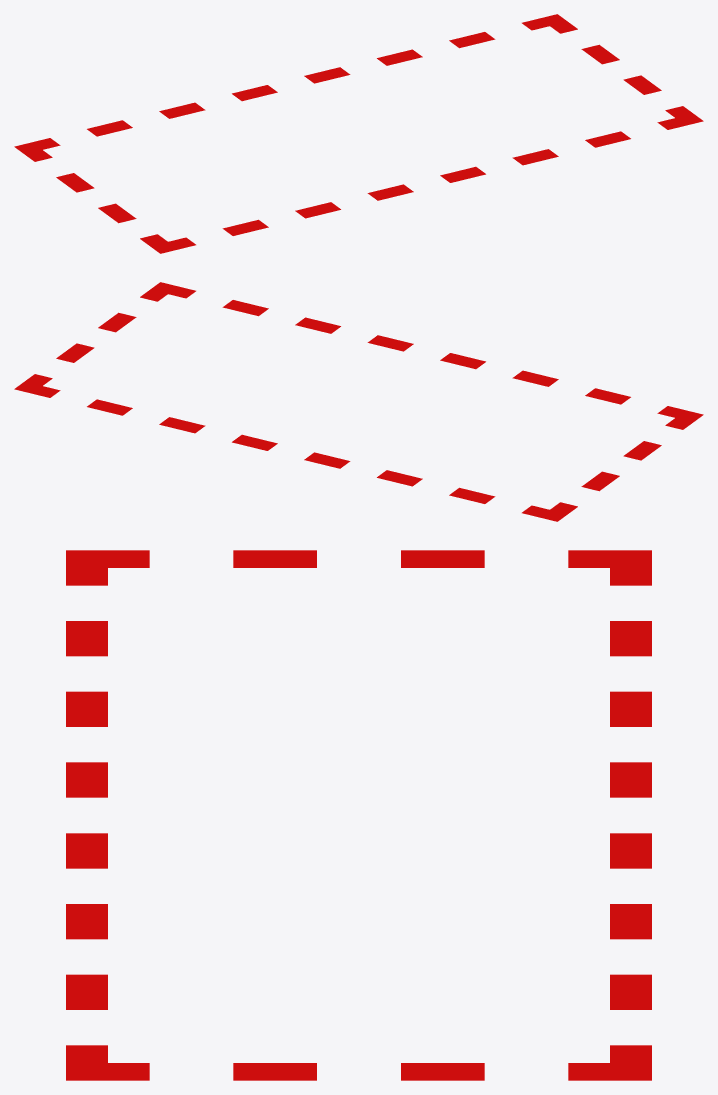
File: BusStopSign(Red).fbx
3 renders of one model, top to bottom at view 1: azimuth 30°, elevation 25°; view 2: azimuth 150°, elevation 25°; view 3: azimuth 270°, elevation 25°, orthographic. The views are drawn at different scales.
Visible parts, largest first — view 1: BusStopSign; view 2: BusStopSign; view 3: BusStopSign.
Part boxes in pixels (box(x1,y1,x2,y2)): BusStopSign: box(14, 14, 703, 253); BusStopSign: box(14, 282, 703, 521); BusStopSign: box(66, 550, 651, 1080).
Bounding box in the file's own units: 37.5 × 2.85e-06 × 17.5.
